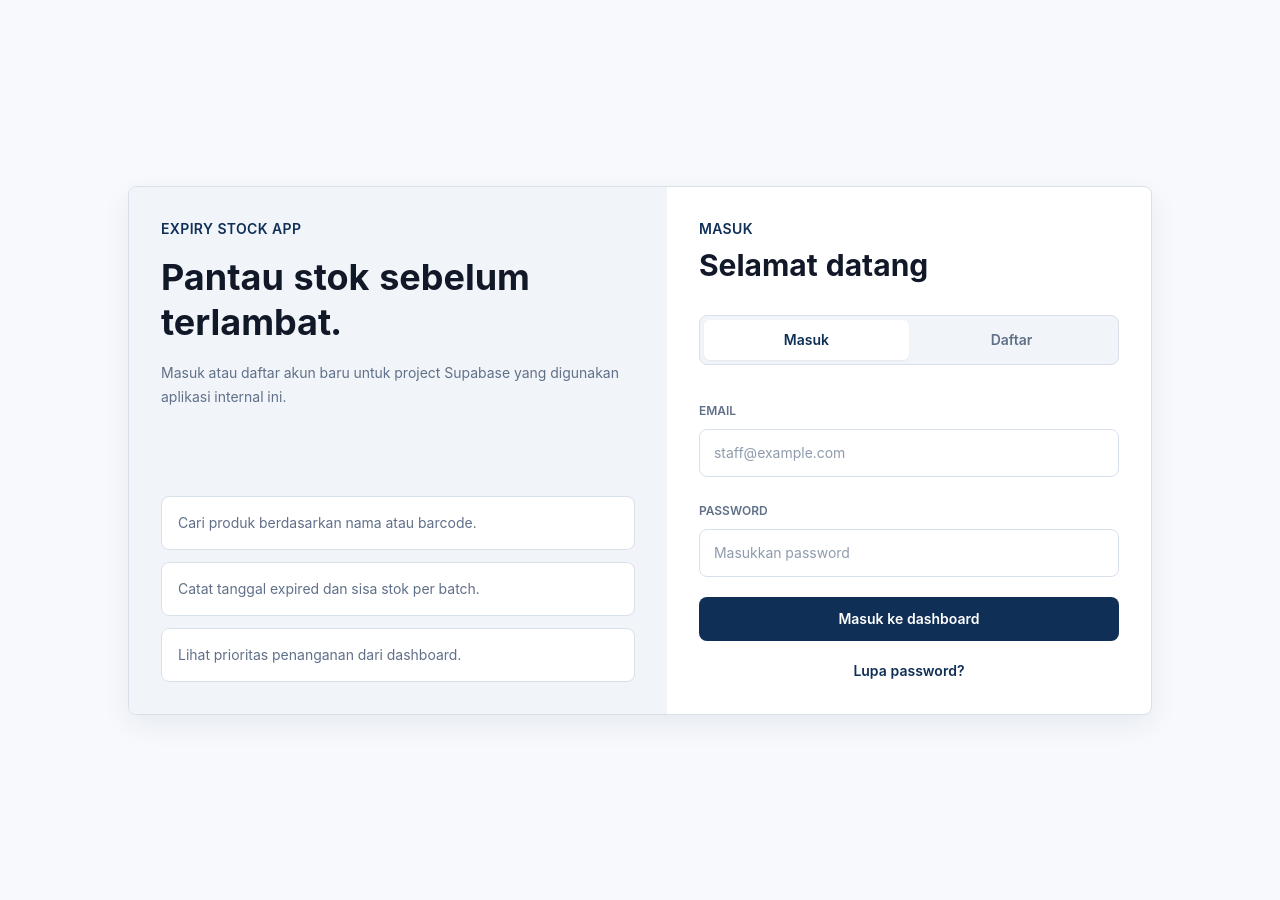
Test: LoginPage › daftar akun memakai Supabase Auth dan menampilkan instruksi verifikasi email
Click the tab "Daftar". click: click(1011, 340)
box: [909,320,1114,360]
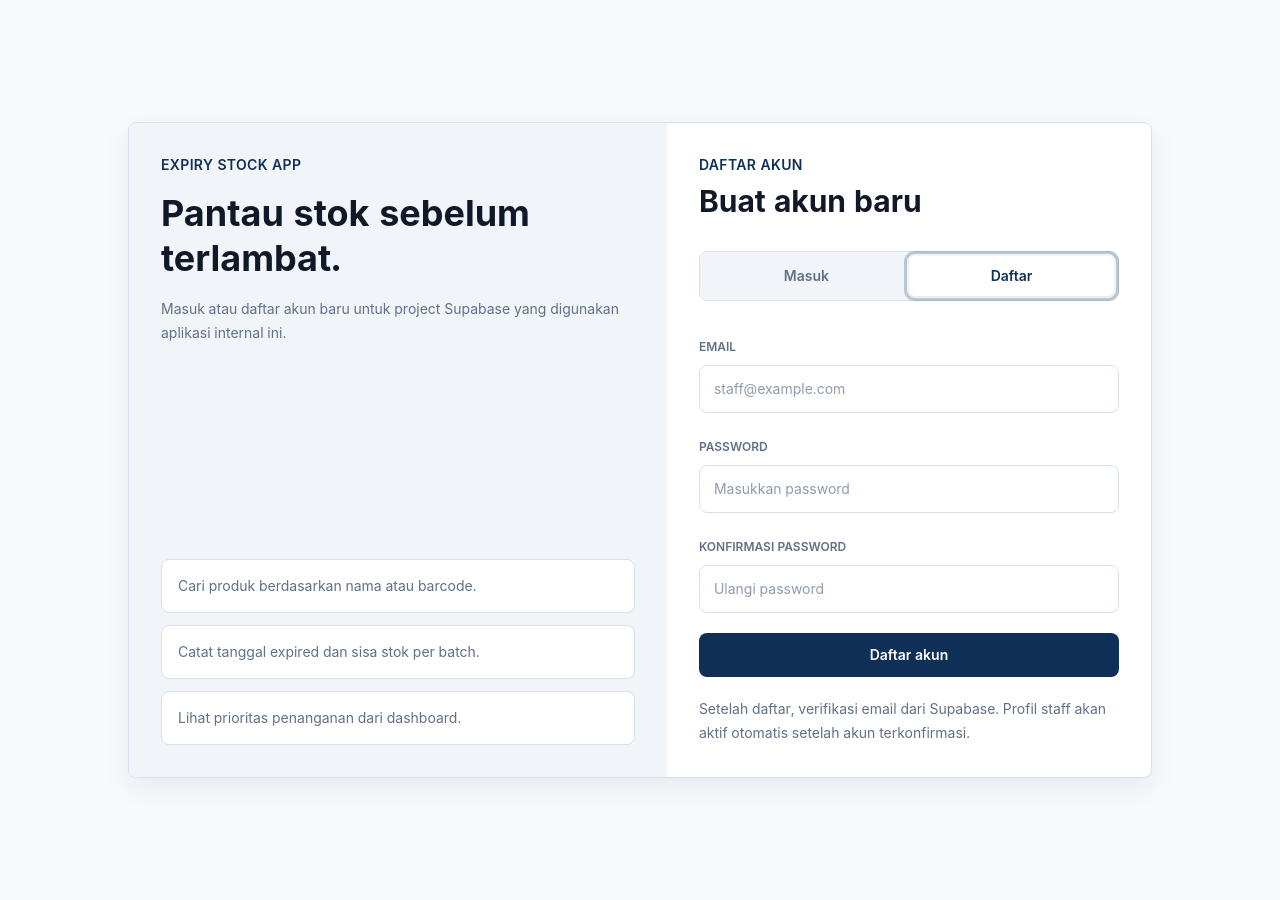
Type "baru@example.com" into the field labelled "Email". click: (909, 389)
box: [699,365,1119,413]
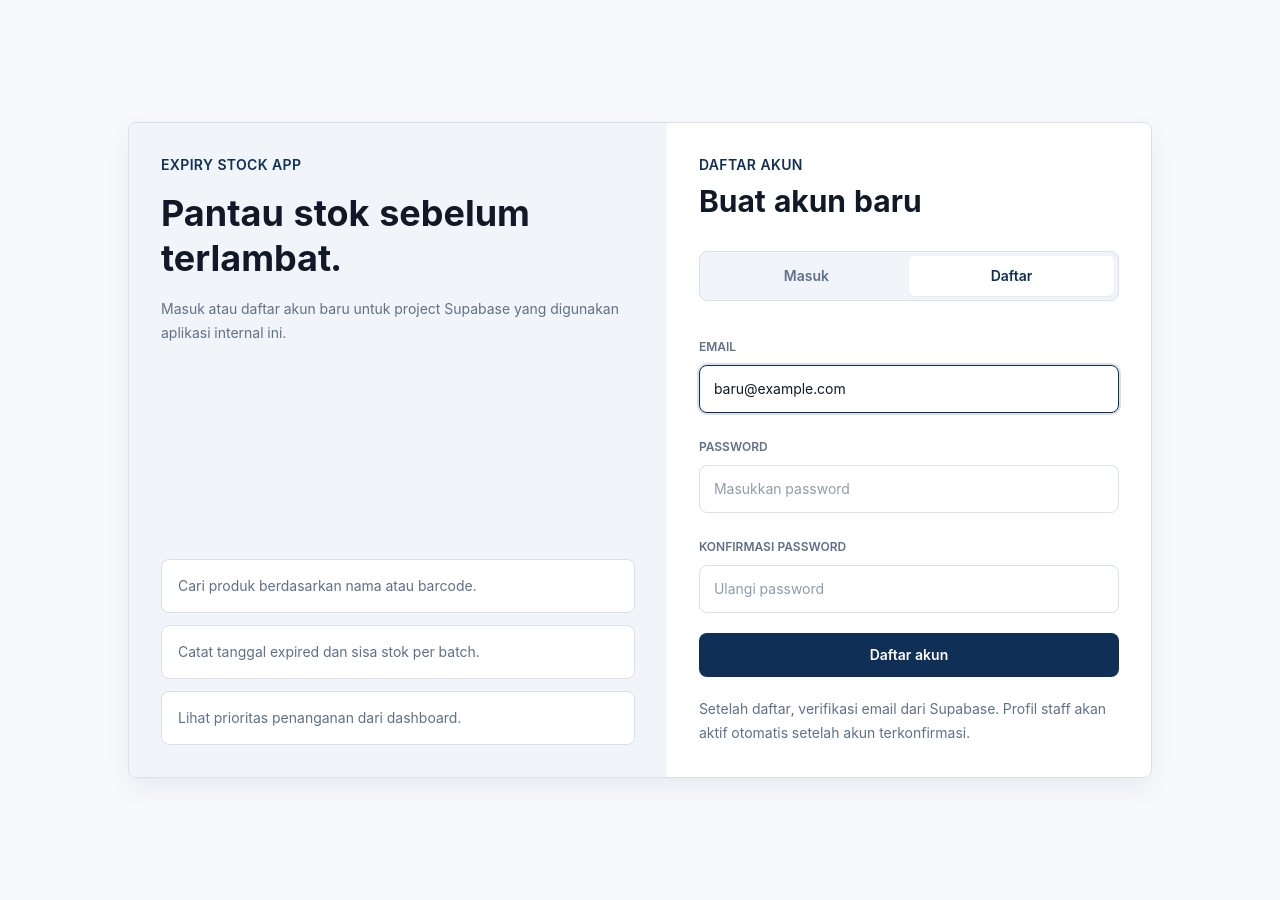
Type "password-baru" into the password field labelled "Password". click: (909, 489)
box: [699,465,1119,513]
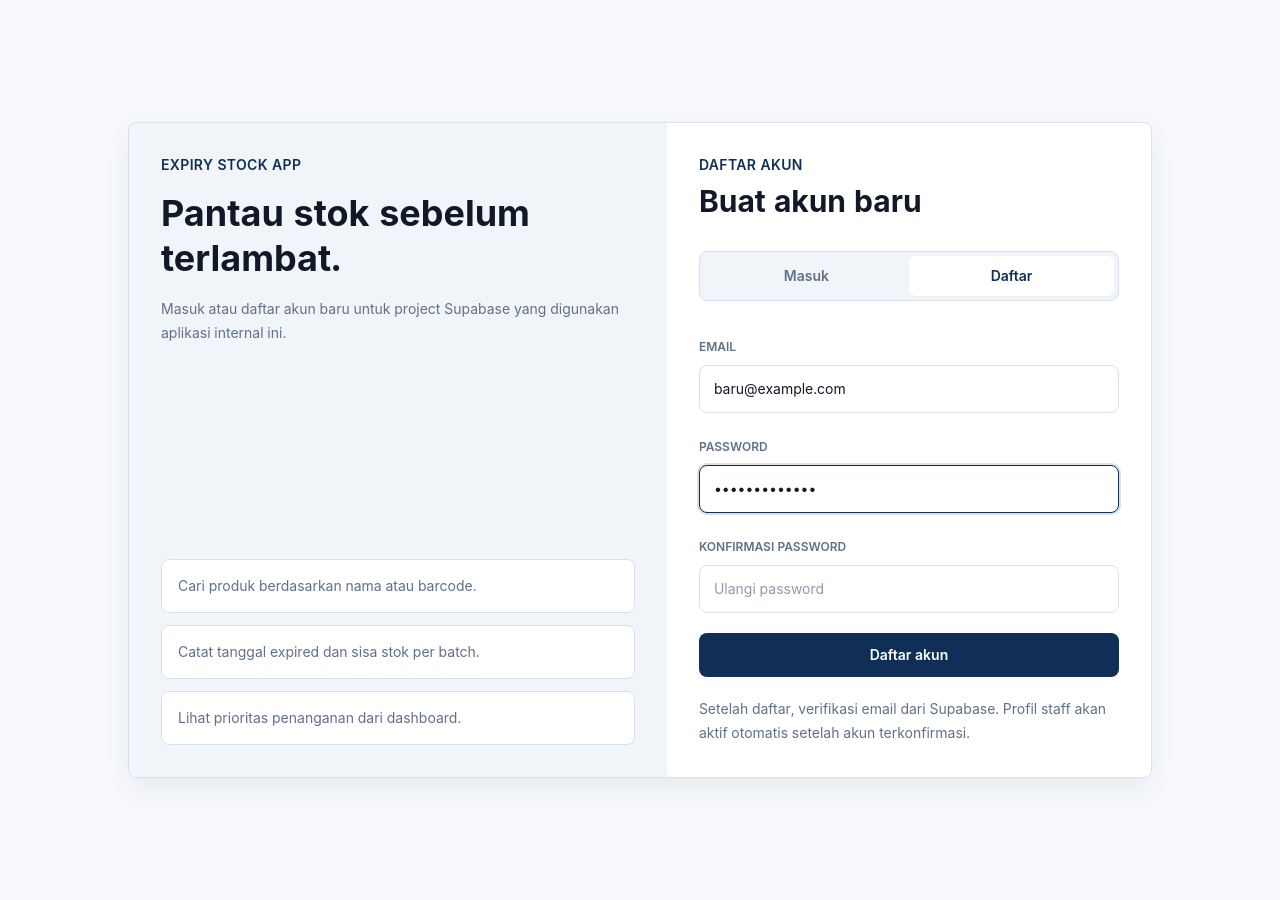
Type "password-baru" into the password field labelled "Konfirmasi password". click: (909, 589)
box: [699,565,1119,613]
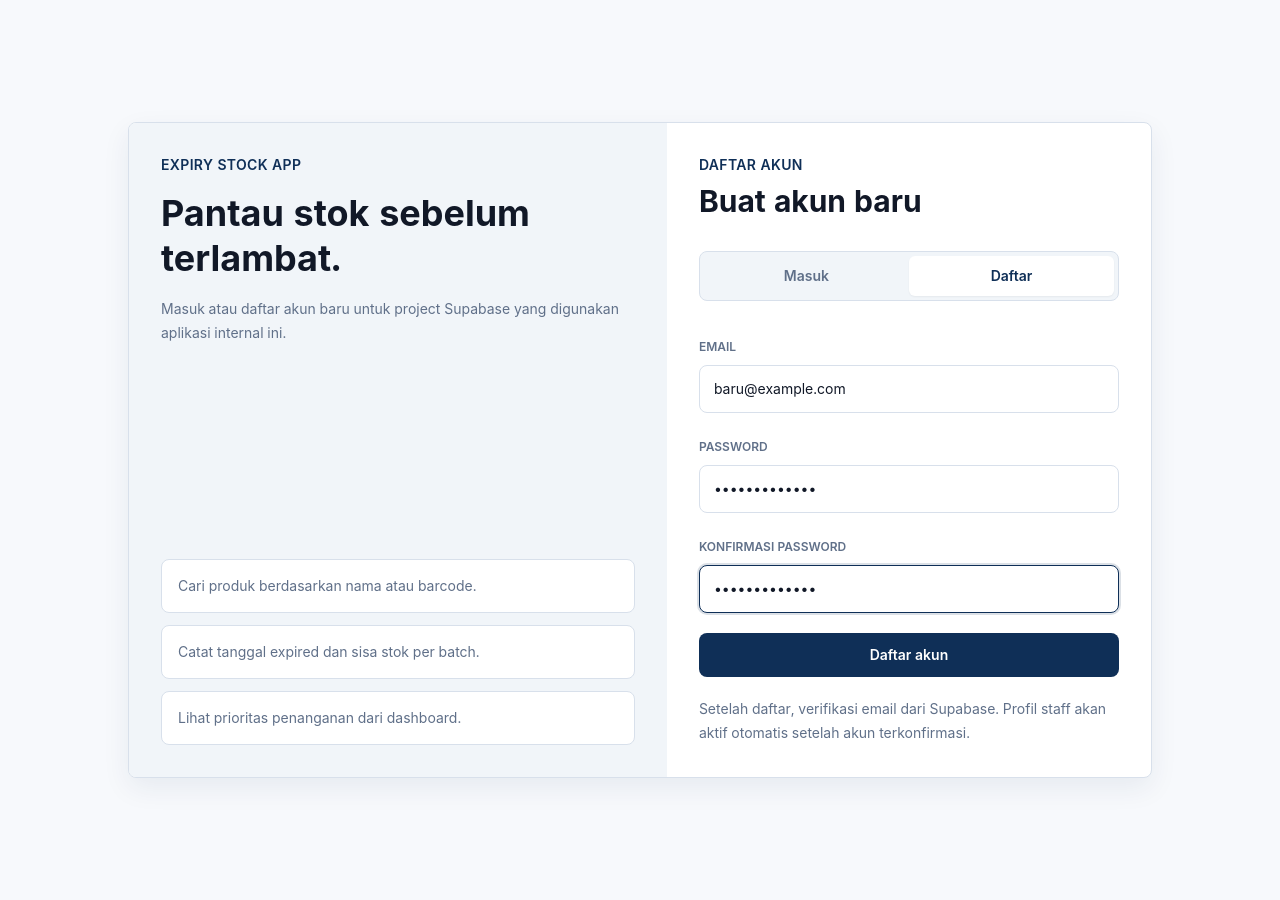
Click the button "Daftar akun". click: click(909, 655)
box: [699,633,1119,677]
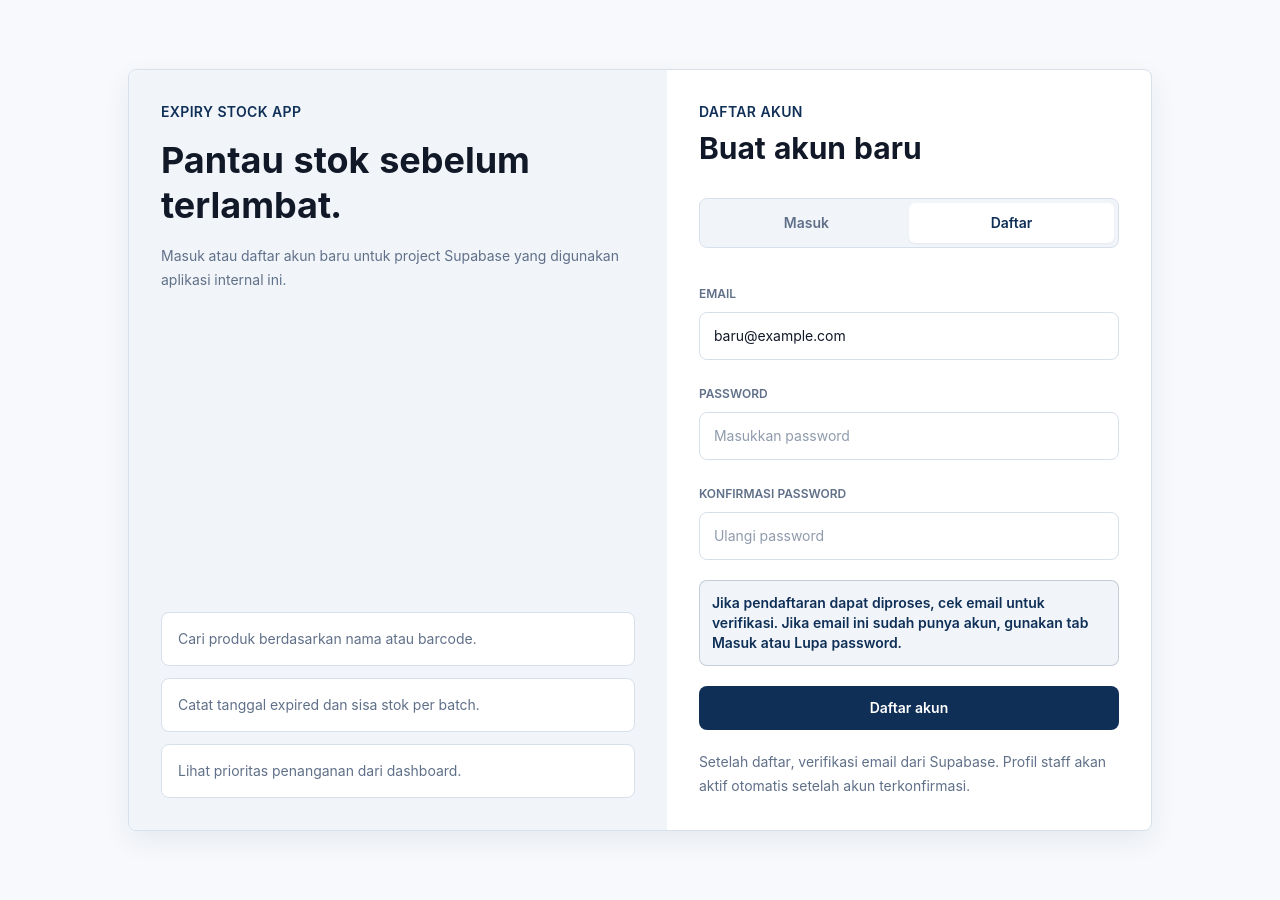
Expected: the text "Jika pendaftaran dapat diproses, cek email untuk verifikasi. Jika email ini sudah punya akun, gunakan tab Masuk atau Lup" is shown, [712,594,1088,651]
